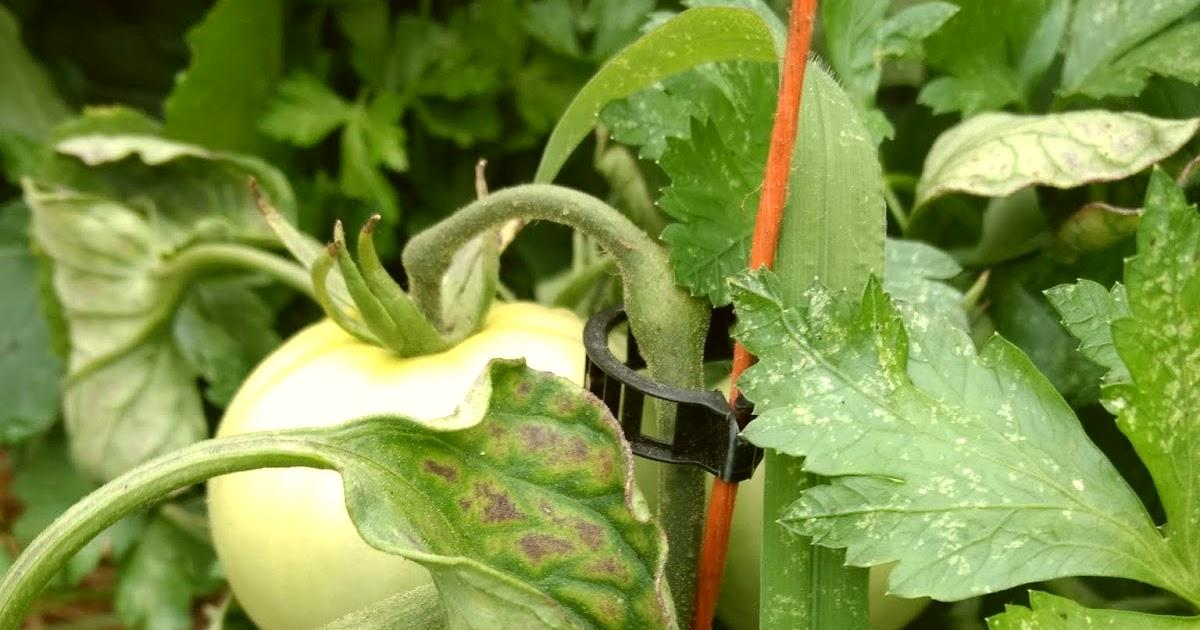Tomato leaf mosaic virus: (733, 269, 1170, 603)
